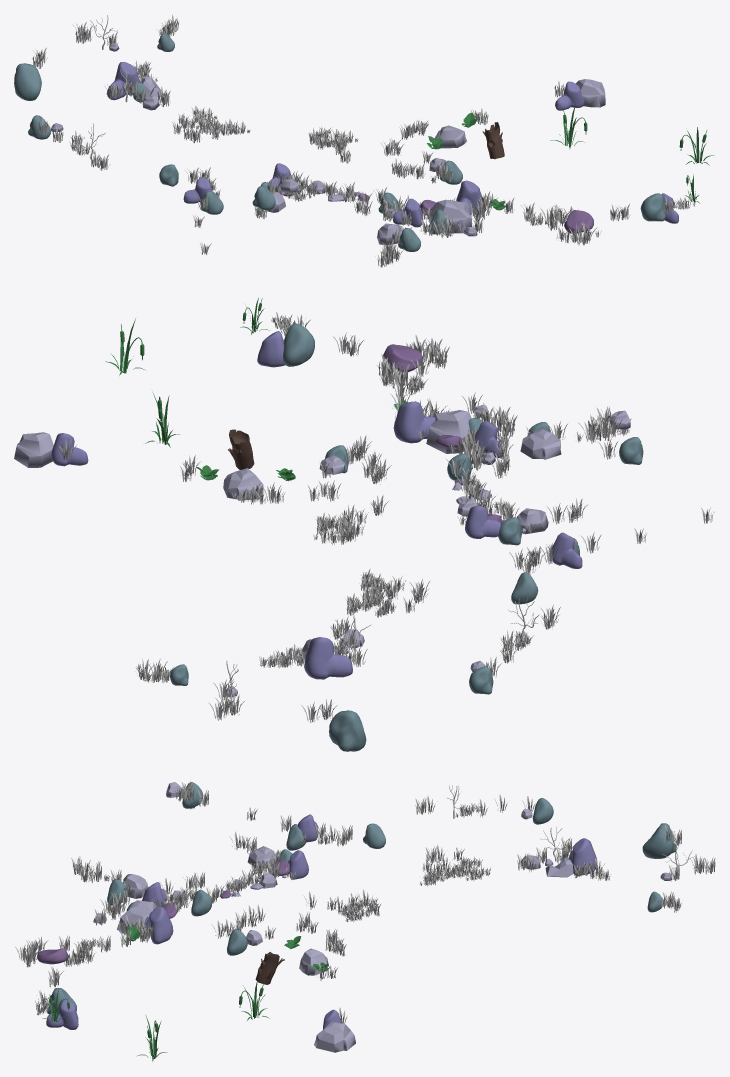
File: AssetsAuriHubFixed.fbx
3 views of the same model, one above another, from view 1: azimuth 30°, elevation 25°; view 2: azimuth 150°, elevation 25°; view 3: azimuth 270°, elevation 25° (orthographic). The views are drawn at different scales.
Visible parts, largest first — view 1: pasted__rock_03_lp11, pasted__blocky_rock_chunky_lp6, pasted__blocky_rock_chunky_lp14, pasted__rock_02_lp2, pasted__rock_03_lp10, pasted__rock_02_lp6, pasted__blocky_rock_chunky_lp15, pasted__rock_02_lp4, pasted__rock_02_lp1, pasted__hollow_trunk_lp, pasted__rock_01_lp3, grass26 (+5 smaller); view 2: pasted__rock_02_lp2, pasted__rock_02_lp1, pasted__blocky_rock_chunky_lp6, pasted__rock_03_lp11, pasted__blocky_rock_chunky_lp14, pasted__rock_03_lp10, pasted__blocky_rock_chunky_lp10, pasted__blocky_rock_chunky_lp15, pasted__rock_02_lp, pasted__rock_02_lp6, pasted__rock_01_lp3, pasted__rock_02_lp3 (+2 smaller); view 3: pasted__blocky_rock_chunky_lp14, pasted__rock_03_lp11, pasted__rock_02_lp1, pasted__rock_02_lp2, pasted__blocky_rock_chunky_lp6, pasted__rock_02_lp5, pasted__hollow_trunk_lp, pasted__blocky_rock_chunky_lp15, grass24, pasted__rock_02_lp, grass25, pasted__blocky_rock_chunky_lp10.
Boxes of the visible parts, x1=… form: pasted__rock_03_lp11: x1=14, y1=63, x2=41, y2=100; pasted__blocky_rock_chunky_lp6: x1=428, y1=199, x2=472, y2=233; pasted__blocky_rock_chunky_lp14: x1=576, y1=79, x2=605, y2=107; pasted__rock_02_lp2: x1=106, y1=62, x2=140, y2=100; pasted__rock_03_lp10: x1=640, y1=193, x2=665, y2=221; pasted__rock_02_lp6: x1=555, y1=81, x2=584, y2=110; pasted__blocky_rock_chunky_lp15: x1=434, y1=125, x2=466, y2=148; pasted__rock_02_lp4: x1=393, y1=198, x2=422, y2=227; pasted__rock_02_lp1: x1=456, y1=180, x2=482, y2=214; pasted__hollow_trunk_lp: x1=482, y1=122, x2=504, y2=159; pasted__rock_01_lp3: x1=564, y1=210, x2=593, y2=233; grass26: x1=556, y1=222, x2=601, y2=245; pasted__rock_02_lp2: x1=304, y1=637, x2=352, y2=679; pasted__rock_02_lp1: x1=393, y1=401, x2=435, y2=443; pasted__blocky_rock_chunky_lp6: x1=426, y1=410, x2=471, y2=453; pasted__rock_03_lp11: x1=329, y1=710, x2=366, y2=751; pasted__blocky_rock_chunky_lp14: x1=14, y1=432, x2=53, y2=467; pasted__rock_03_lp10: x1=283, y1=323, x2=314, y2=366; pasted__blocky_rock_chunky_lp10: x1=520, y1=428, x2=561, y2=459; pasted__blocky_rock_chunky_lp15: x1=223, y1=468, x2=263, y2=500; pasted__rock_02_lp: x1=465, y1=506, x2=500, y2=538; pasted__rock_02_lp6: x1=51, y1=433, x2=88, y2=466; pasted__rock_01_lp3: x1=383, y1=344, x2=423, y2=372; pasted__rock_02_lp3: x1=551, y1=532, x2=582, y2=568; pasted__blocky_rock_chunky_lp14: x1=314, y1=1021, x2=355, y2=1052; pasted__rock_03_lp11: x1=642, y1=823, x2=676, y2=858; pasted__rock_02_lp1: x1=143, y1=906, x2=173, y2=944; pasted__rock_02_lp2: x1=569, y1=838, x2=597, y2=875; pasted__blocky_rock_chunky_lp6: x1=117, y1=900, x2=156, y2=936; pasted__rock_02_lp5: x1=46, y1=999, x2=78, y2=1029; pasted__hollow_trunk_lp: x1=255, y1=952, x2=284, y2=984; pasted__blocky_rock_chunky_lp15: x1=299, y1=948, x2=328, y2=975; grass24: x1=71, y1=856, x2=109, y2=882; pasted__rock_02_lp: x1=288, y1=850, x2=308, y2=879; grass25: x1=100, y1=889, x2=132, y2=919; pasted__blocky_rock_chunky_lp10: x1=123, y1=874, x2=146, y2=898.
Size of the model in its own units: 33.16 by 5.67 by 39.52.
